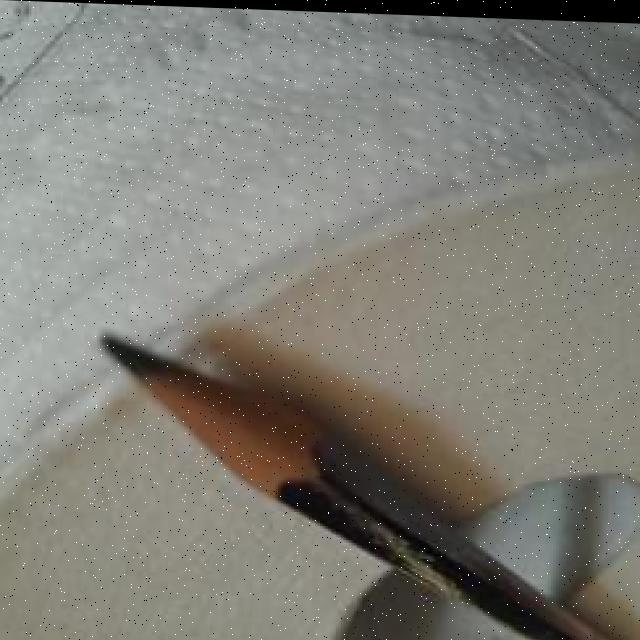pencil: (100, 328, 638, 640)
